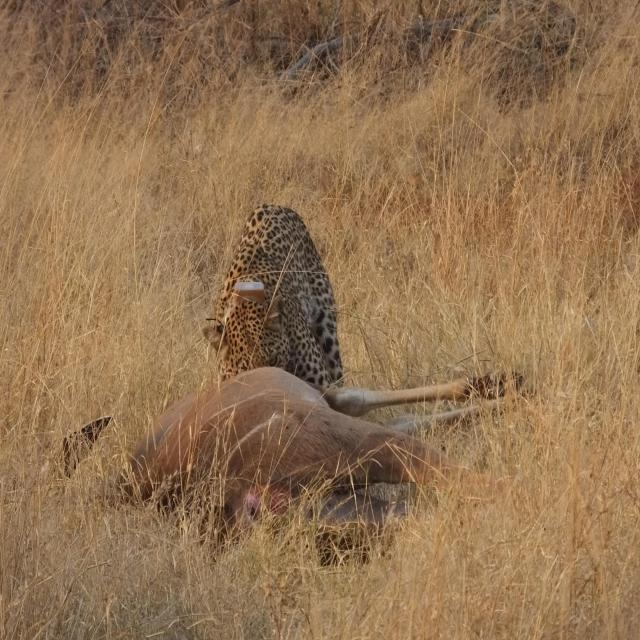Leopard: (209, 202, 354, 390)
